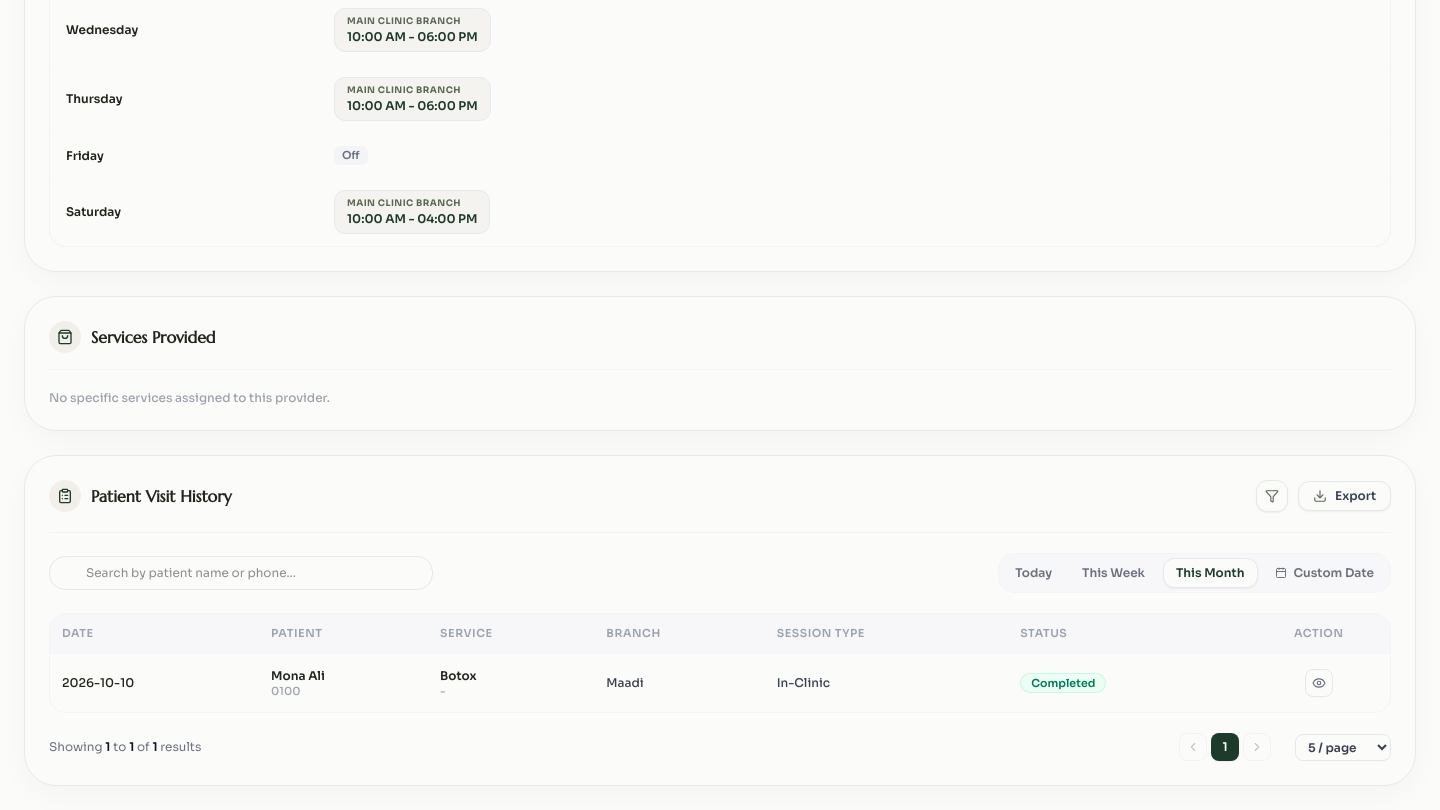
Test case: visit details modal › opens with the selected visit's details and closes via the Close button
(page scrolled)
Click the button titled "View Visit Details".
click(1319, 683)  # box [1305,669,1333,697]
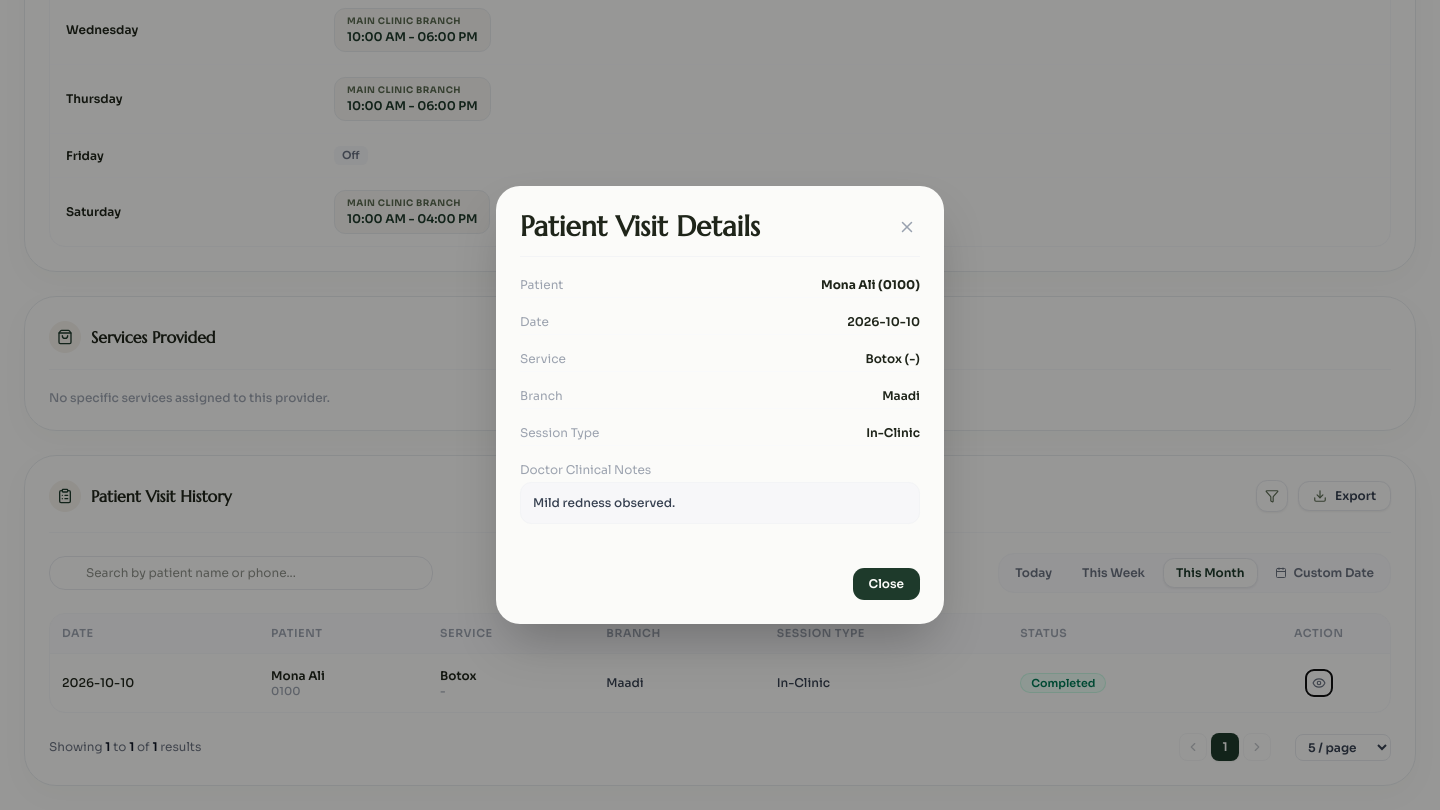
expect the heading "Patient Visit Details" is shown: met, box [520,210,760,244]
expect the text "Mild redness observed." is shown: met, box [520,482,920,524]
Click the button "Close".
click(886, 584)  # box [853,568,920,600]
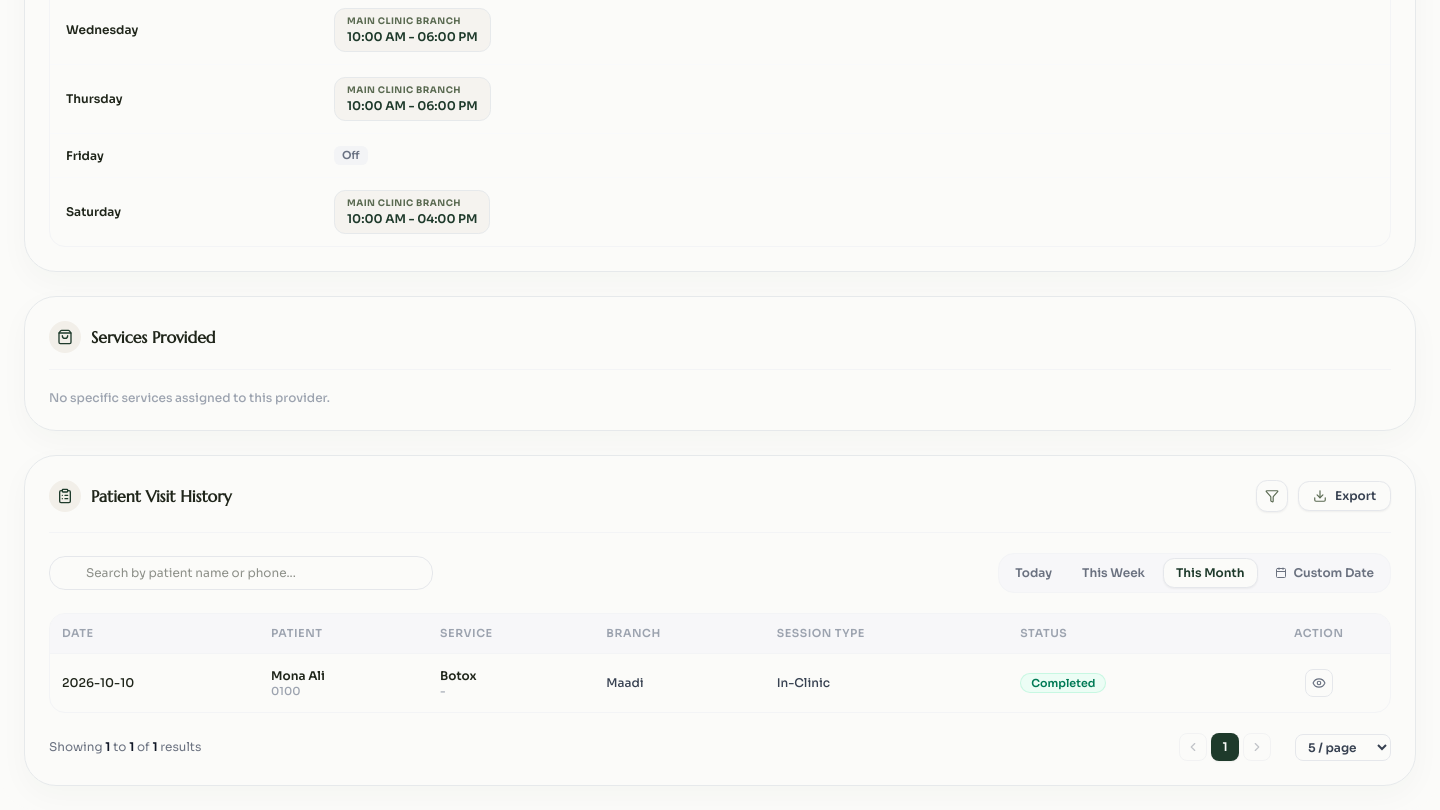
expect the heading "Patient Visit Details" is gone: met
